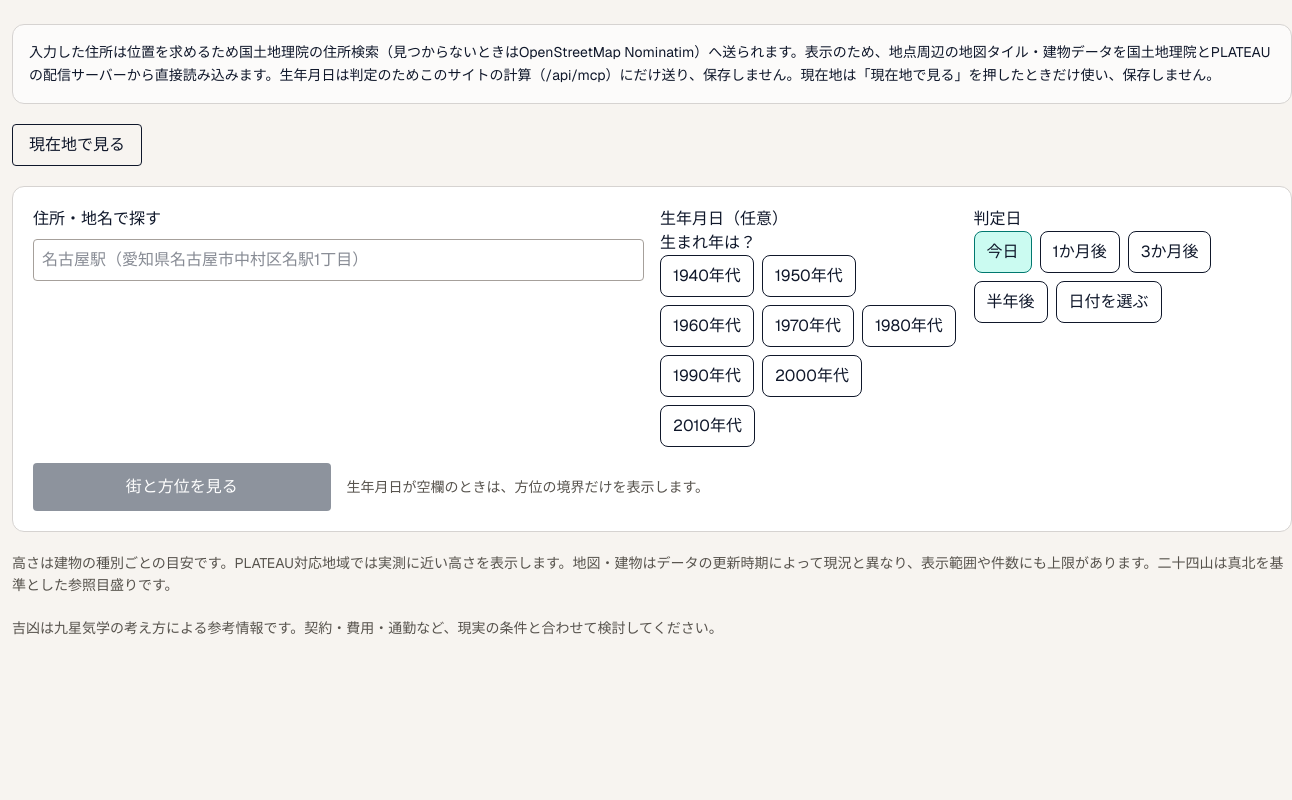
街の表示を入力せずに始める › 位置情報非対応でも画面内に案内する
Click the button "現在地で見る": (77,144) [12,124,142,166]
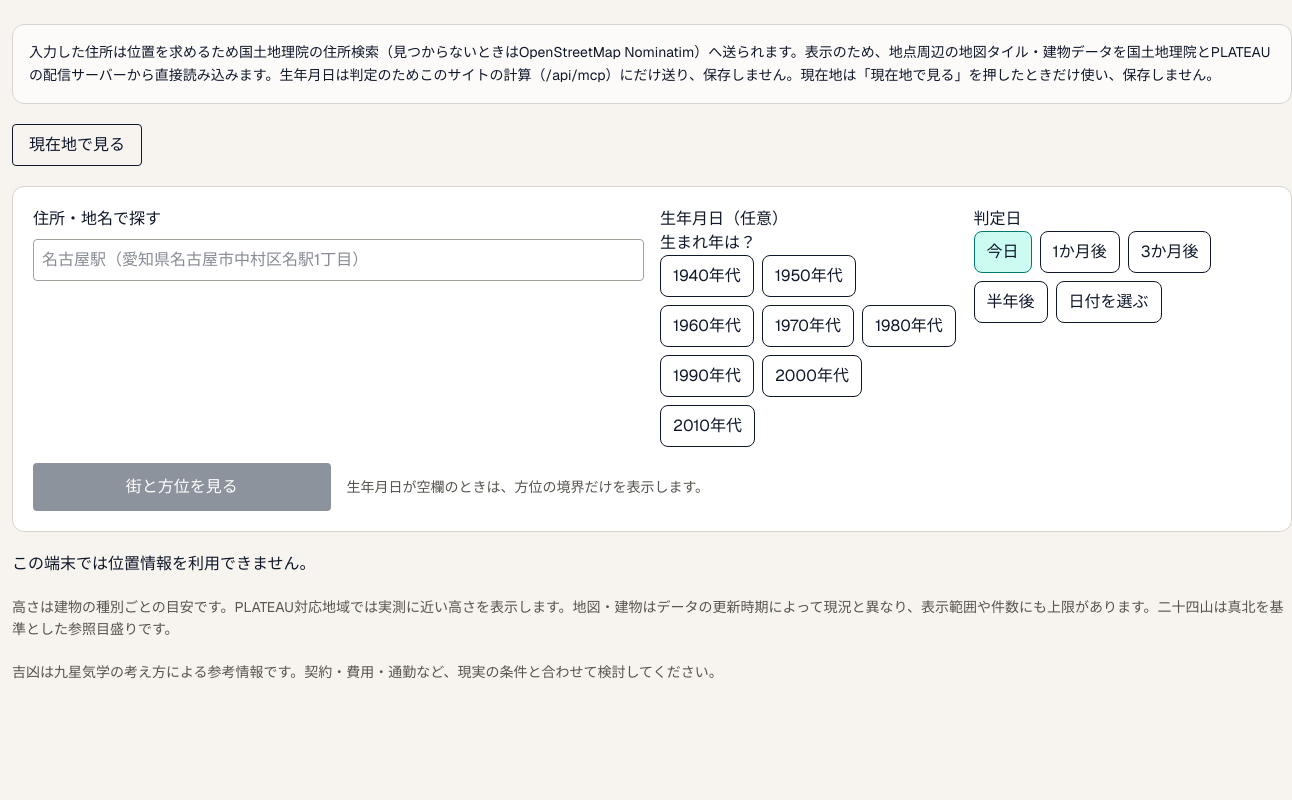
Check: the message shows "この端末では位置情報を利用できません", box [12,552,316,574]
